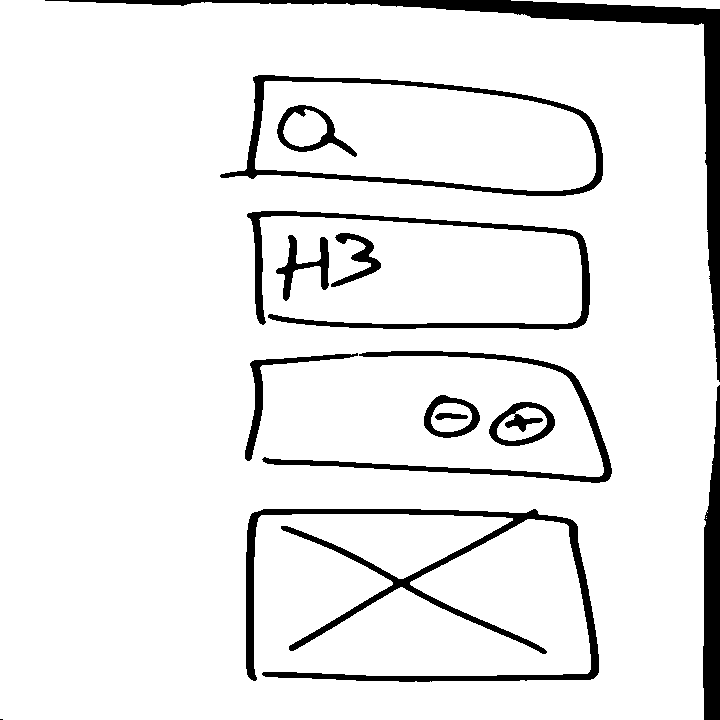heading3: (241, 207, 601, 340)
inline stepper bar: (240, 350, 616, 487)
picture: (240, 504, 607, 687)
search bar: (216, 71, 612, 202)
